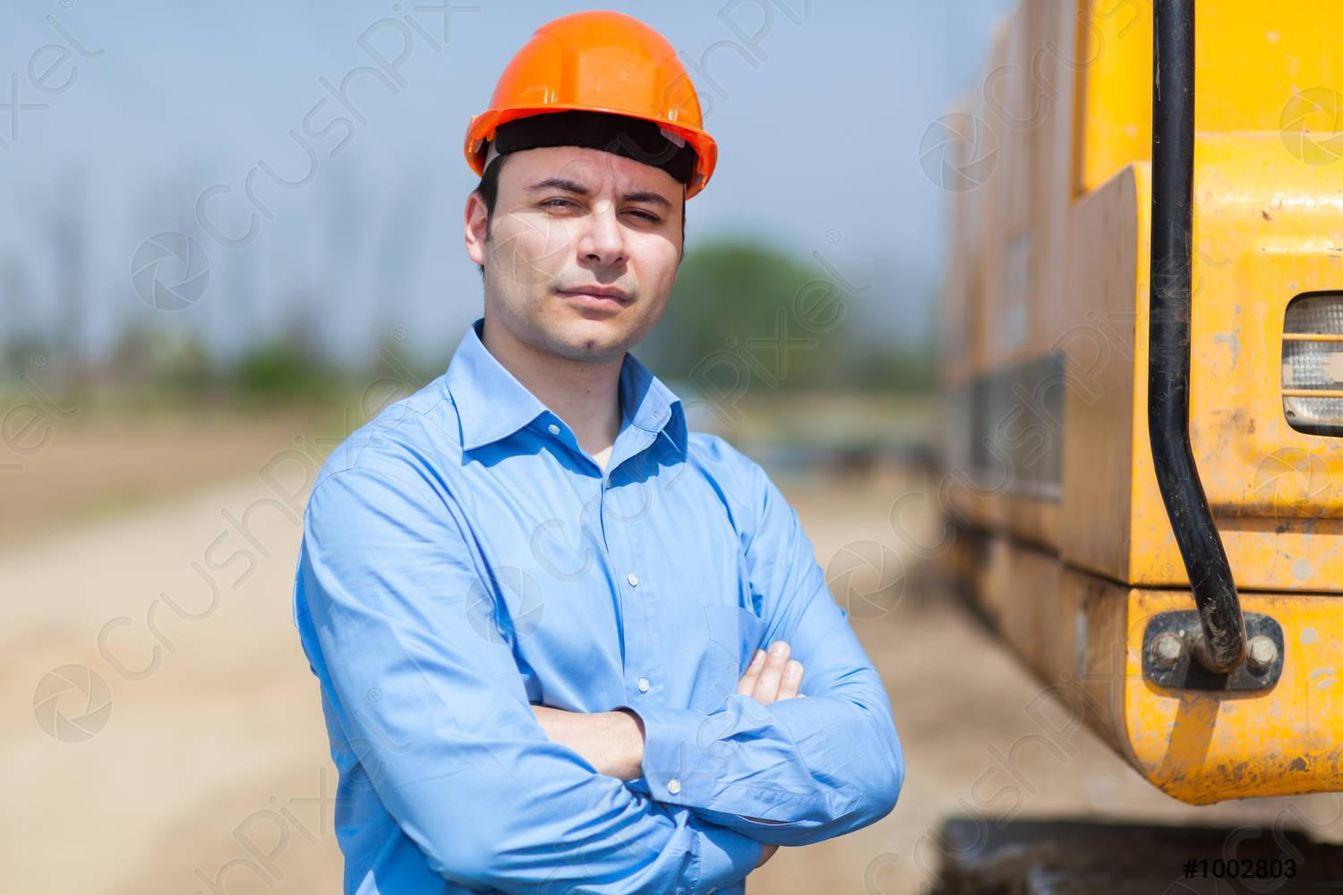No_Goggles: (497, 168, 680, 248)
